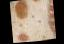plaque psoriasis: (44, 0, 56, 40), (12, 0, 28, 21), (15, 31, 28, 43), (29, 0, 41, 1)
